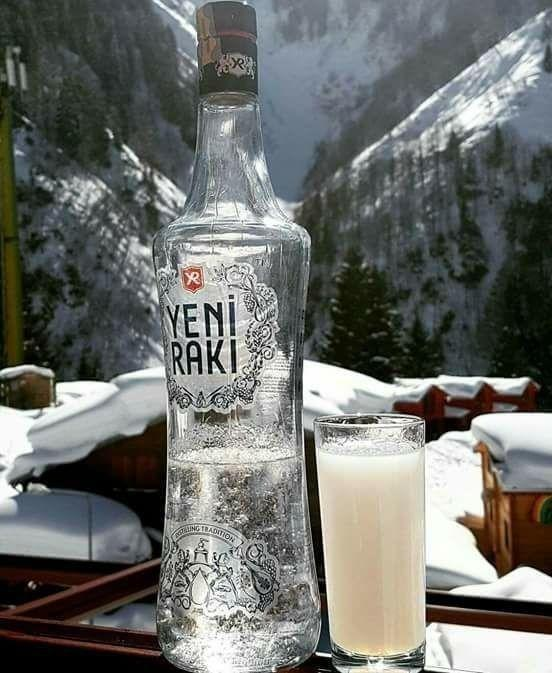bottle-glass: (148, 1, 319, 672)
glass-normal: (311, 412, 430, 672)
